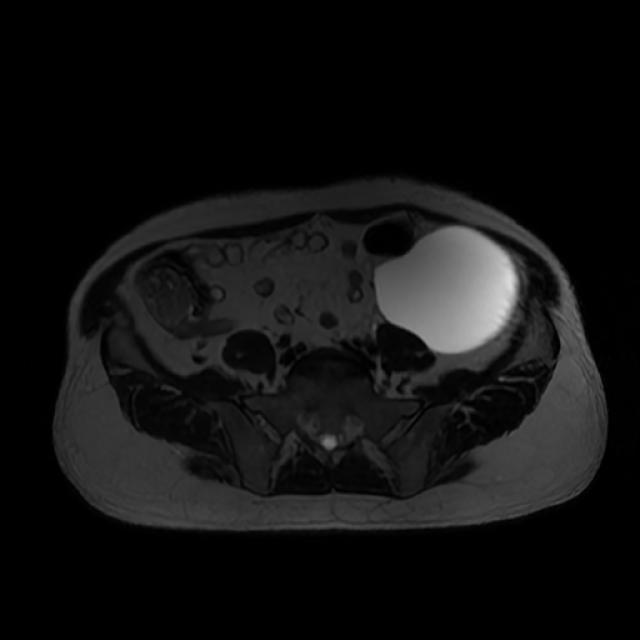sol: (371, 226, 518, 351)
